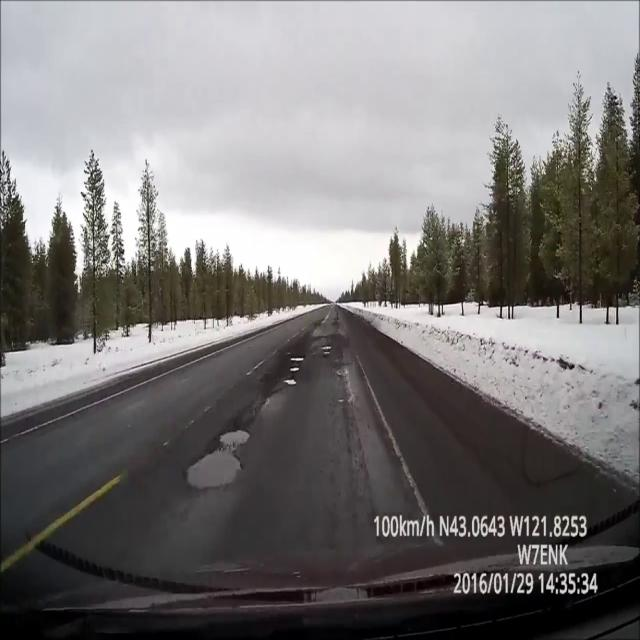Pothole: (181, 443, 248, 494), (217, 426, 252, 451), (321, 344, 334, 356), (282, 376, 296, 386), (290, 353, 305, 362), (290, 364, 302, 373)
